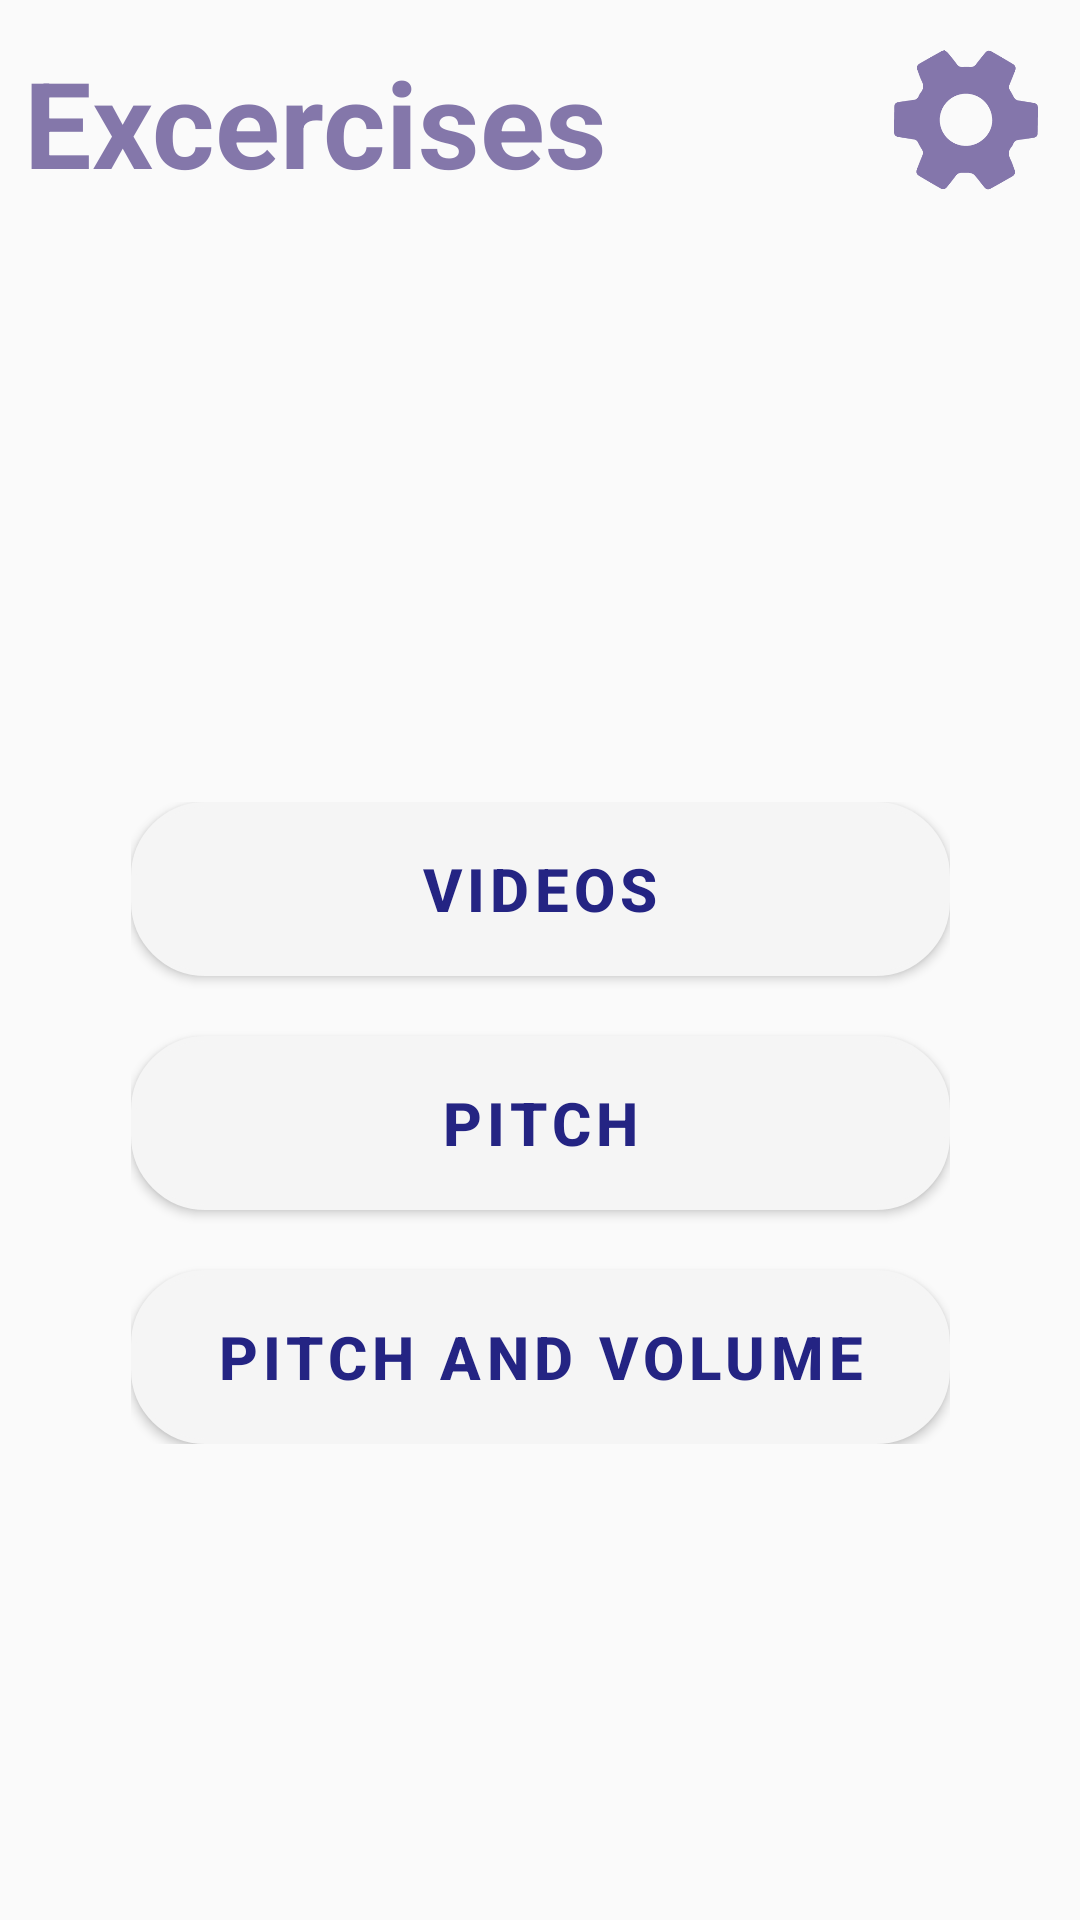

Named icons in this screenshot (1080w x 1920h) and their centers, [x,y]:
The Settings Button: [966,120]
